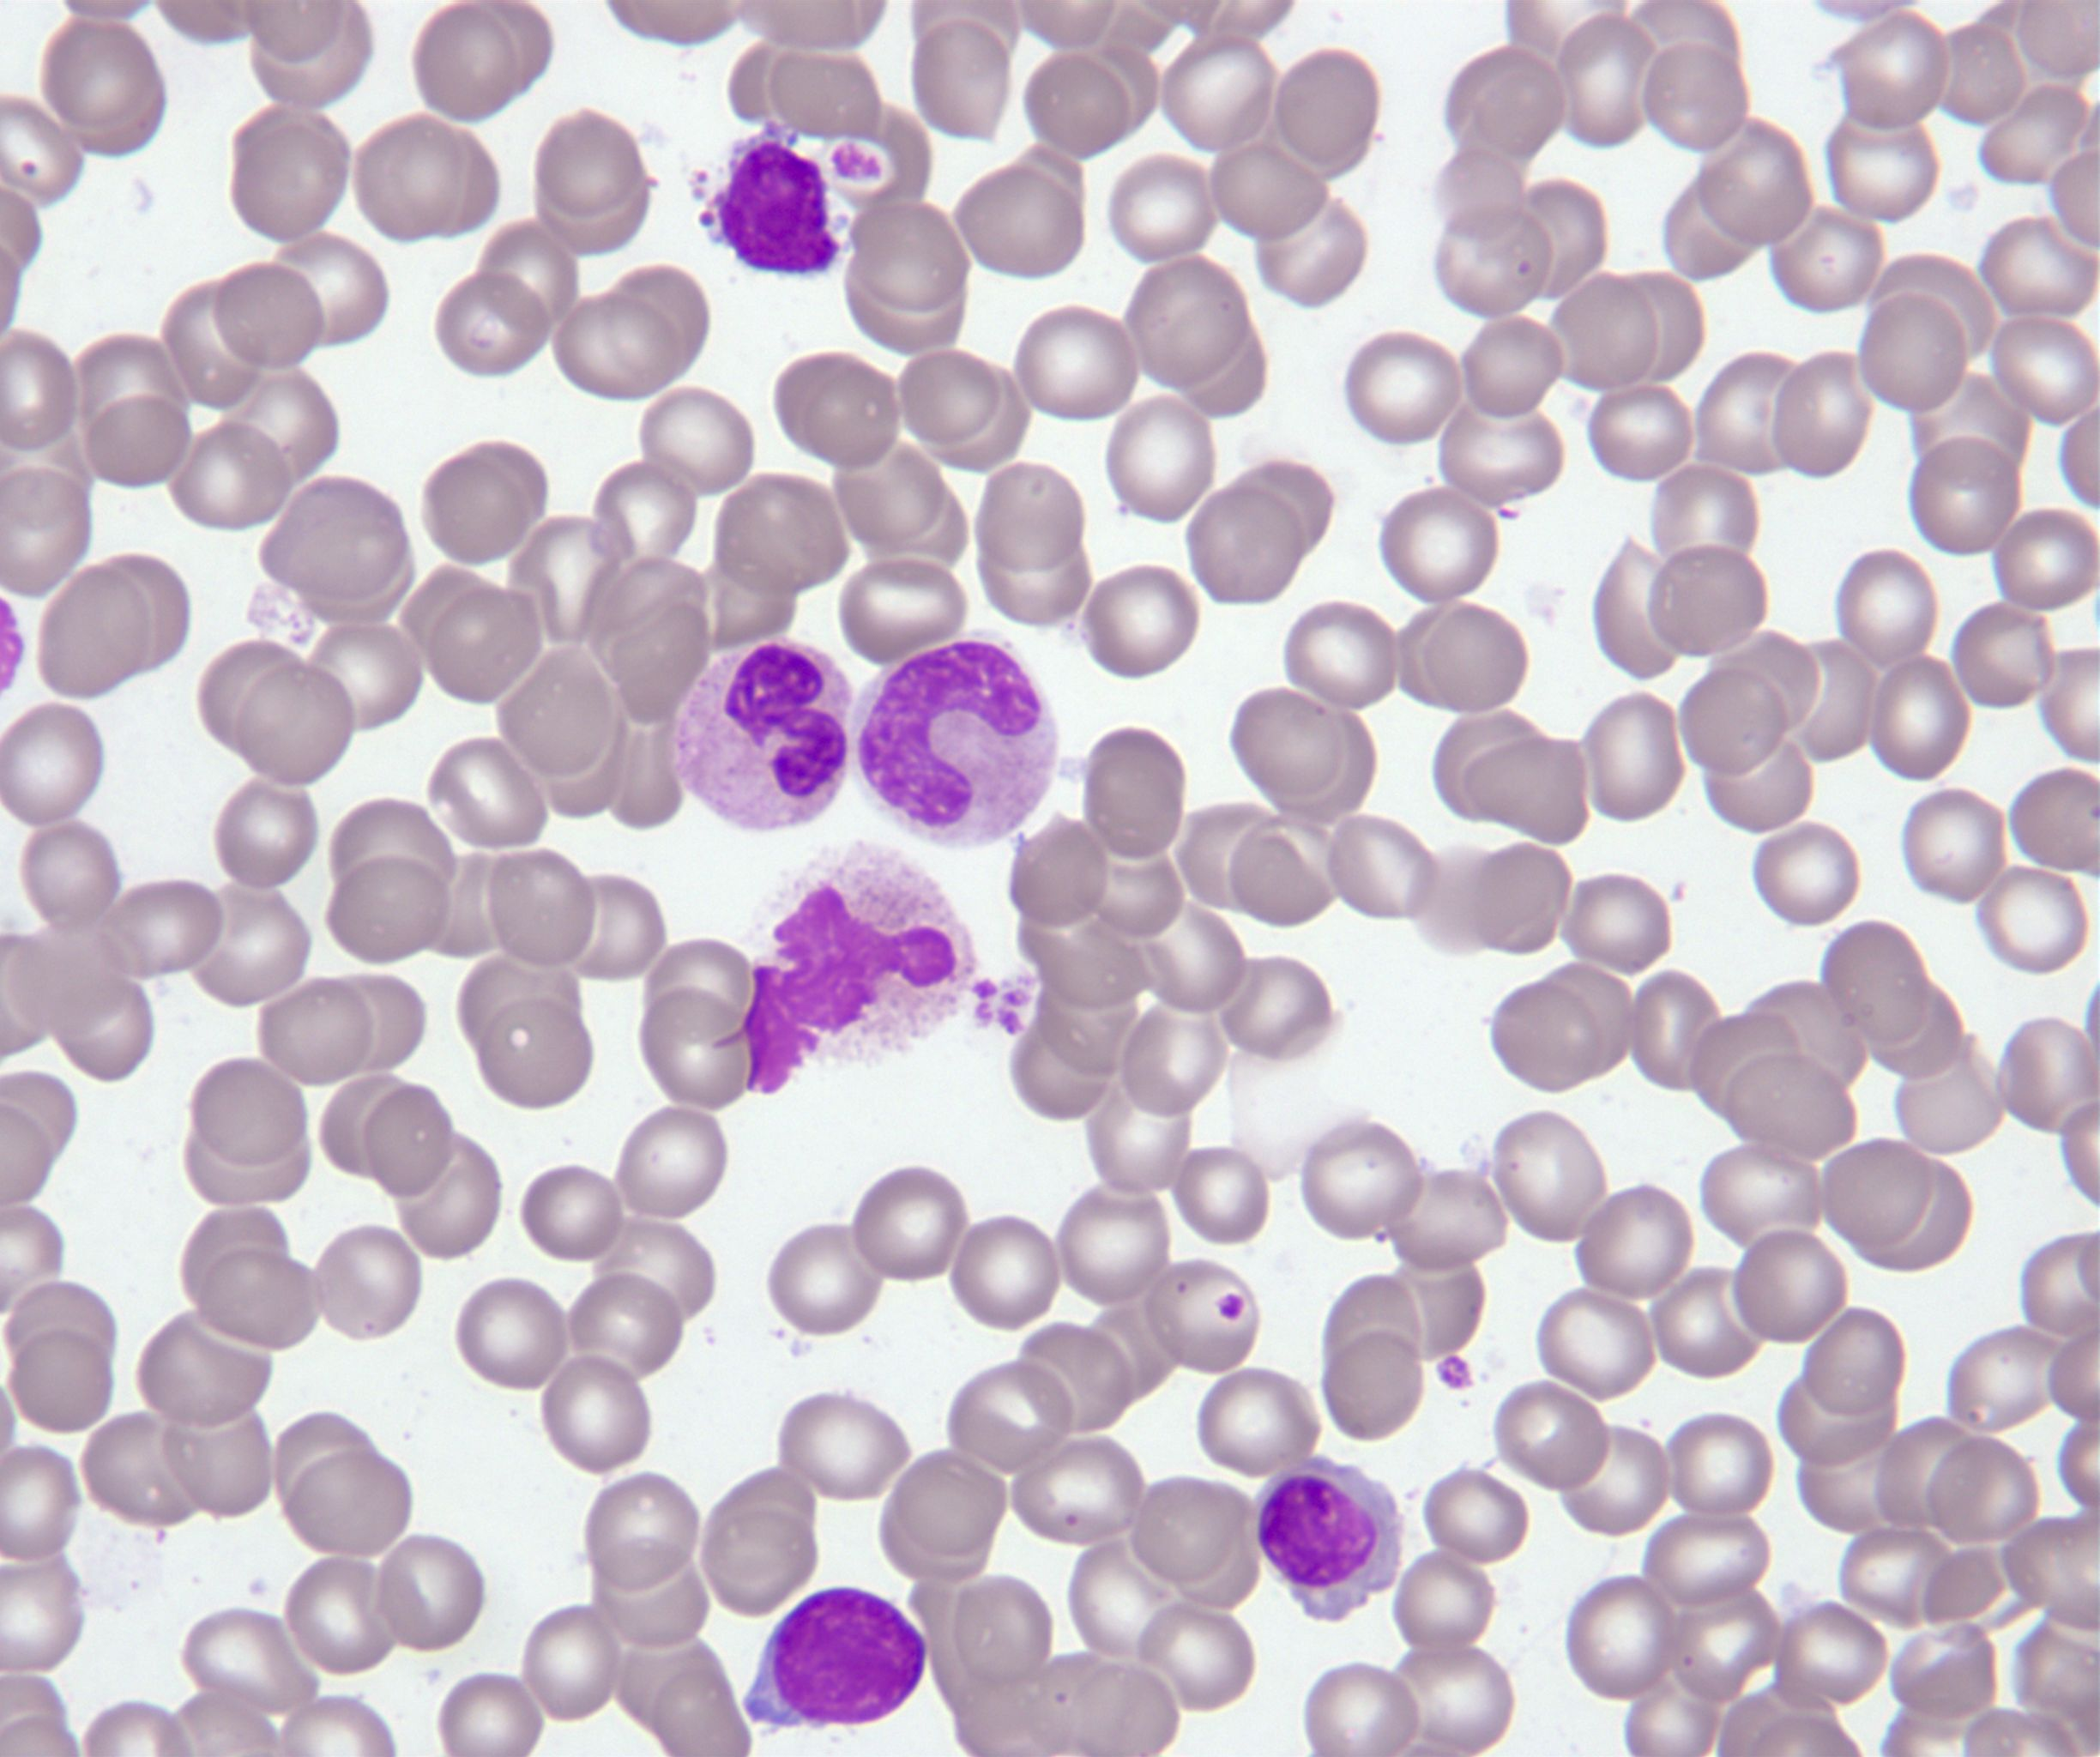24: (1245, 1452, 1411, 1628)
32: (740, 1586, 935, 1734), (691, 120, 848, 277)
5: (851, 632, 1067, 853), (666, 633, 851, 836)
x: (734, 839, 978, 1099)
